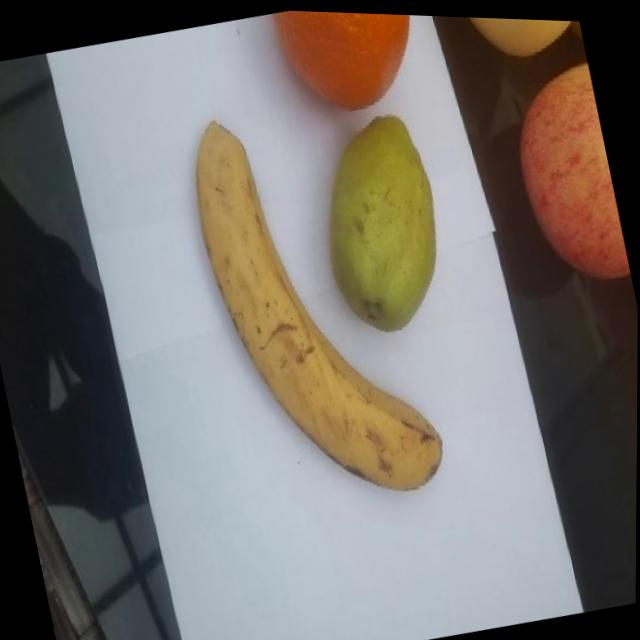Apple: (501, 53, 634, 295)
Banana: (174, 83, 457, 528)
Orange: (268, 8, 434, 122)
